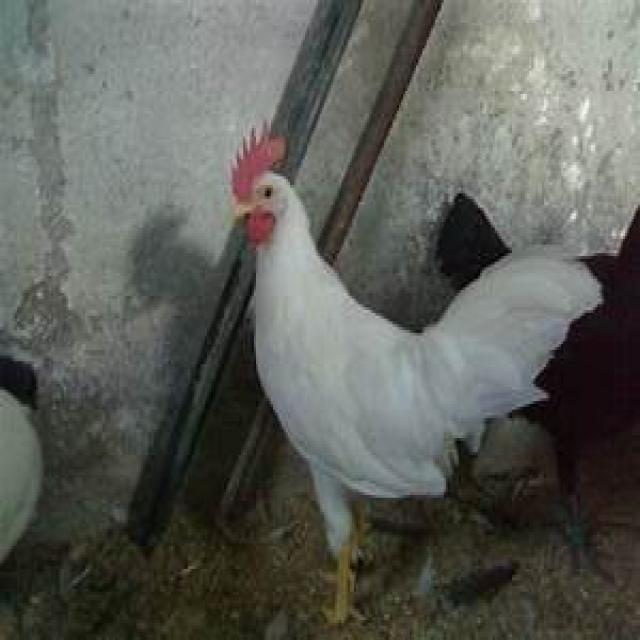hen: (224, 125, 606, 629)
